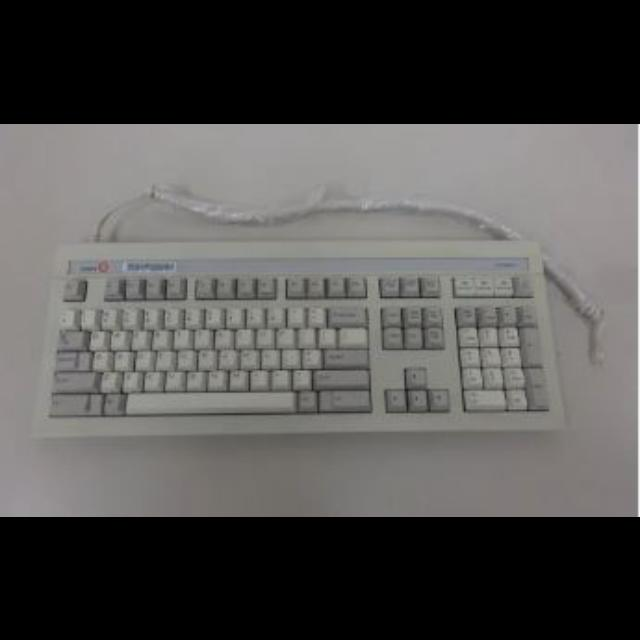Computer-Keyboard: (44, 229, 568, 441)
